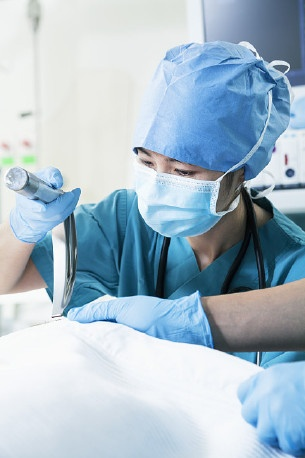Mask: (133, 136, 234, 237)
